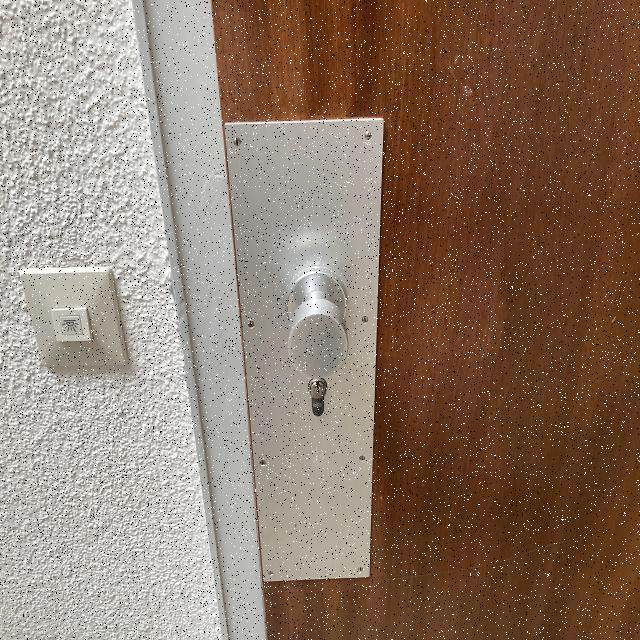doorhandle: (249, 226, 376, 422)
